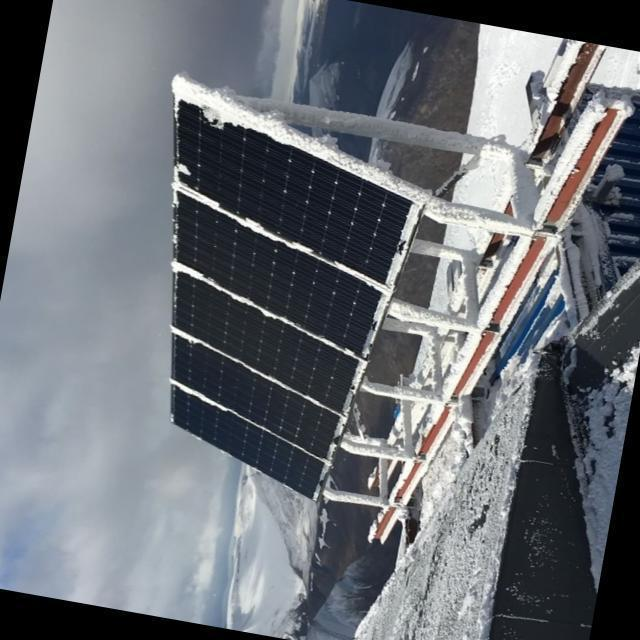Anomaly Solar Panel: (174, 74, 424, 290), (174, 186, 389, 359), (172, 267, 363, 416), (171, 330, 341, 462), (171, 381, 327, 500)
Snow: (169, 64, 427, 214), (173, 165, 388, 300), (173, 256, 363, 362), (170, 323, 342, 419), (171, 376, 328, 465)
